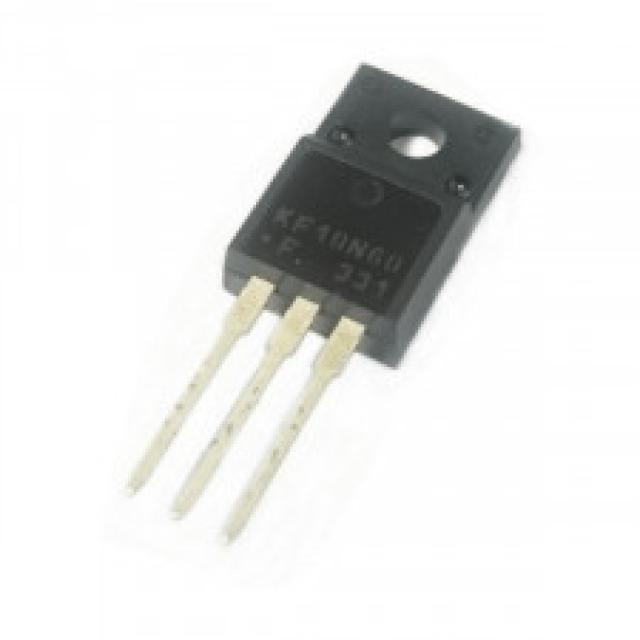Transistor: (119, 60, 525, 532)
